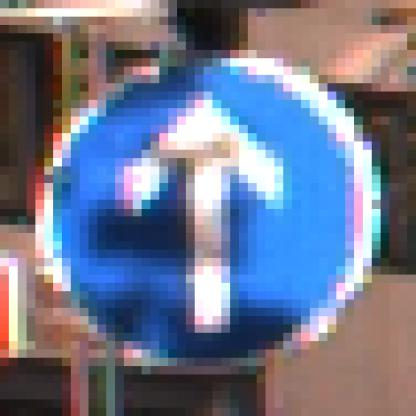AheadOnly: (45, 51, 373, 367)
